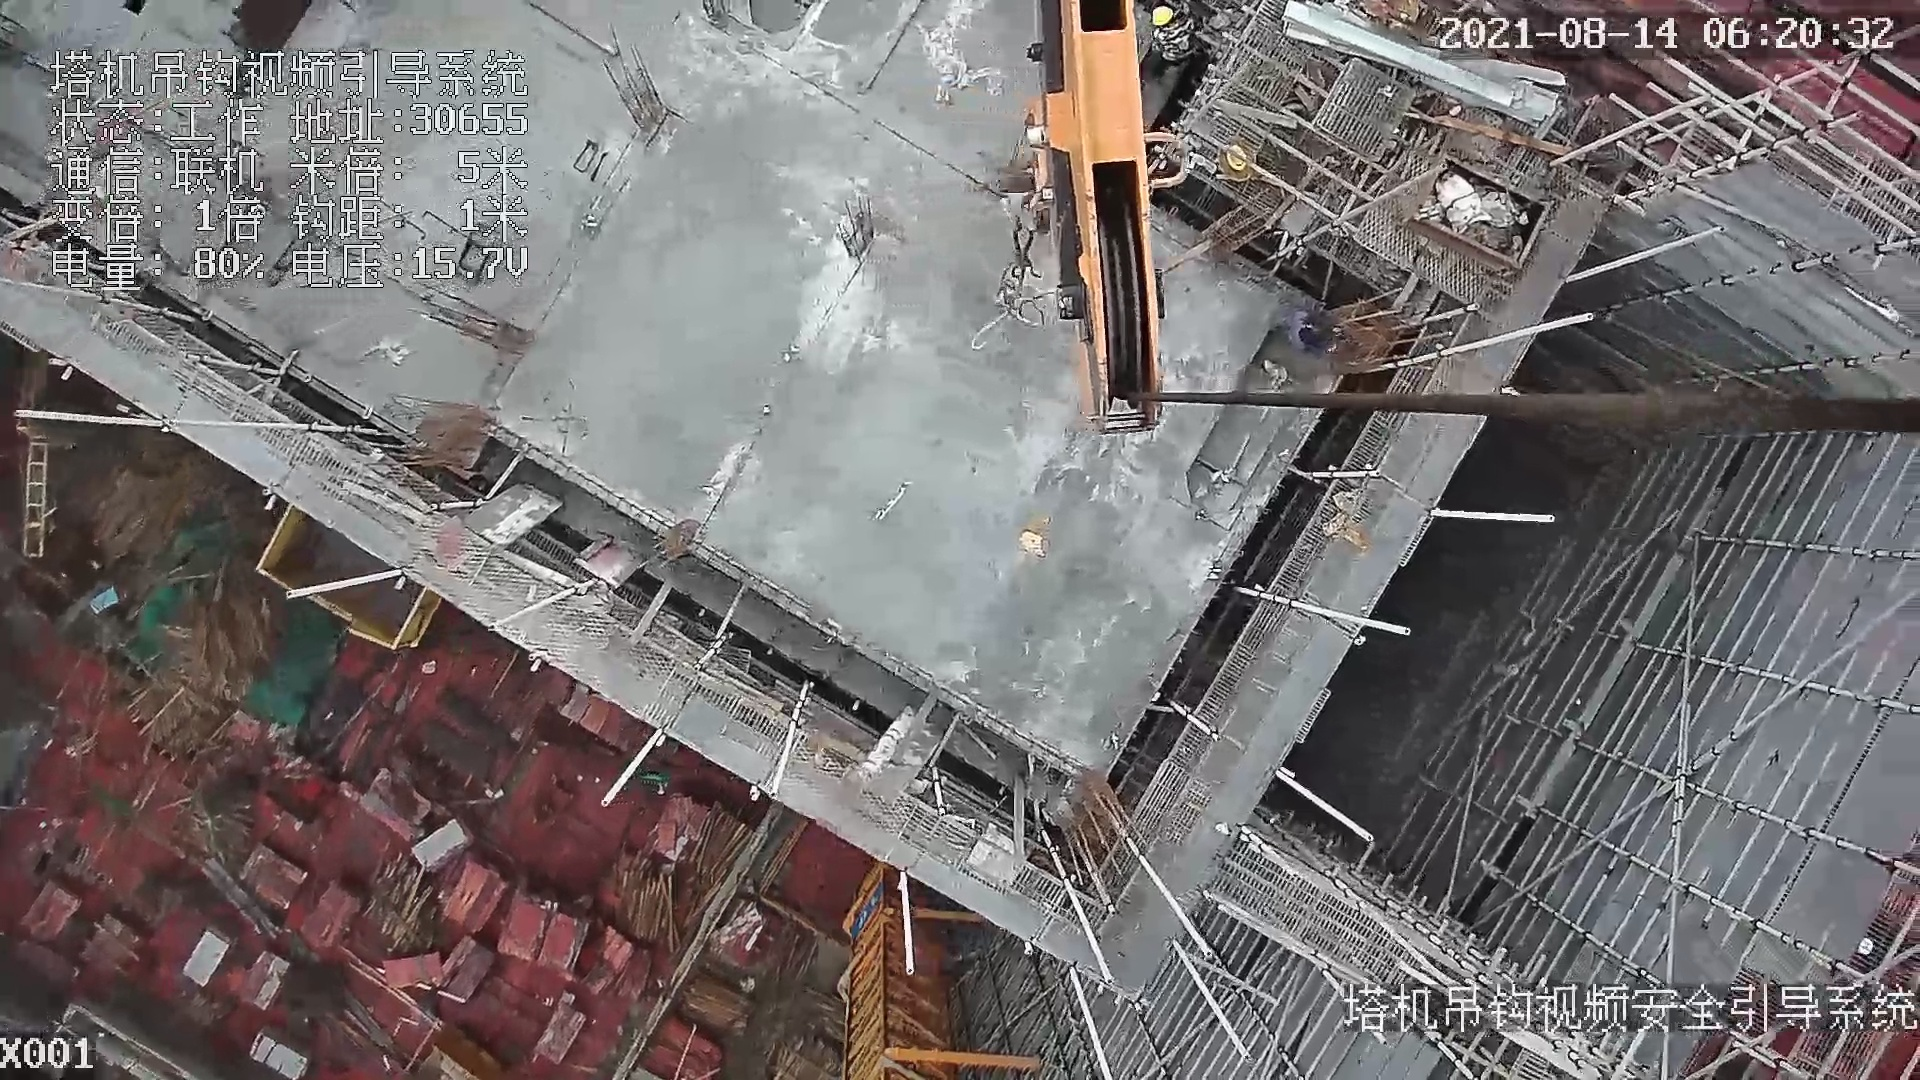hook: (1033, 1, 1170, 438)
person: (1152, 9, 1205, 75)
